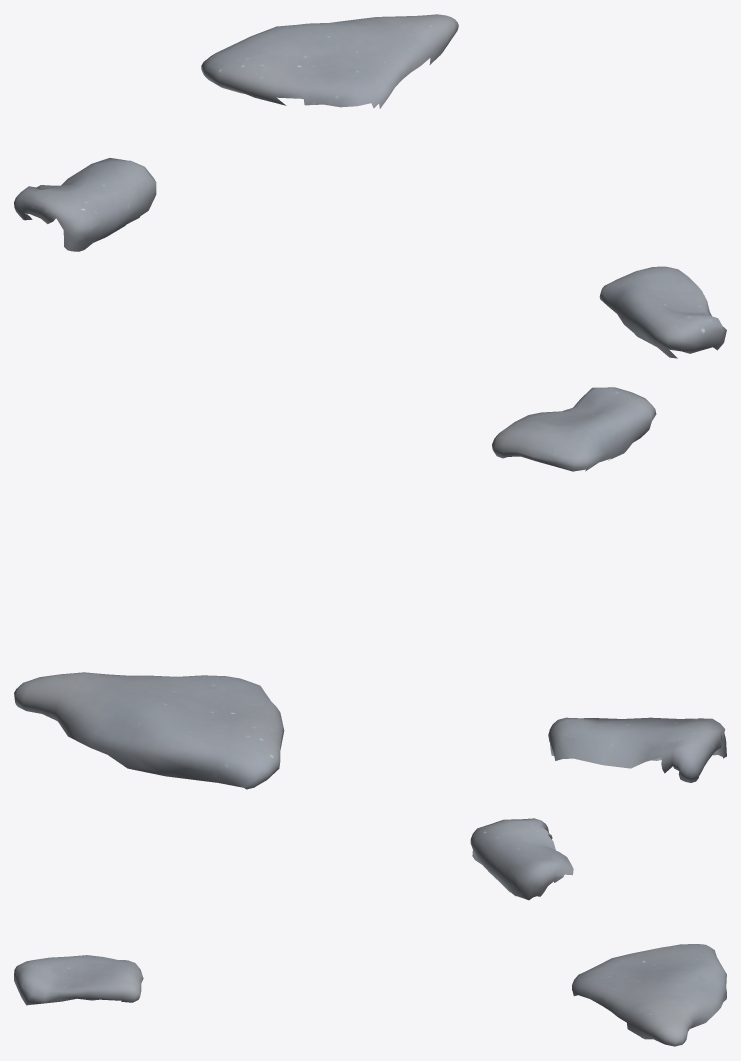
File: pref_sm_beach_winter_grass_snow02_lv3.fbx
3 views of the same model, one above another, from view 1: azimuth 30°, elevation 25°; view 2: azimuth 150°, elevation 25°; view 3: azimuth 270°, elevation 25° (orthographic). The views are drawn at different scales.
Parts seen in each view (by area): view 1: pref_sm_beach_winter_grass_snow02_lv3; view 2: pref_sm_beach_winter_grass_snow02_lv3; view 3: pref_sm_beach_winter_grass_snow02_lv3.
Boxes of the visible parts, x1,y1,x2,y2 form: pref_sm_beach_winter_grass_snow02_lv3: [14, 14, 726, 358]; pref_sm_beach_winter_grass_snow02_lv3: [14, 387, 726, 789]; pref_sm_beach_winter_grass_snow02_lv3: [14, 818, 726, 1046].
Bounding box in the file's own units: 15.11 × 1.37 × 21.3.
